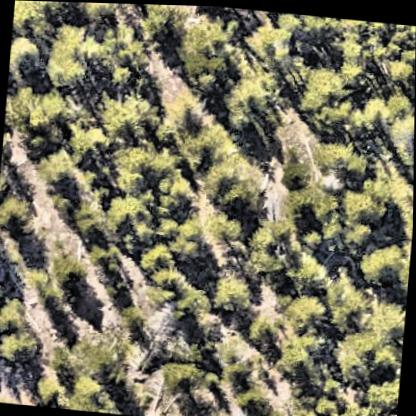tree-top: (41, 17, 101, 96), (176, 13, 239, 83), (93, 83, 160, 148), (66, 325, 137, 385), (296, 56, 358, 123), (208, 151, 267, 217), (336, 329, 400, 383), (171, 113, 229, 170), (315, 134, 377, 184), (97, 34, 153, 88), (223, 72, 279, 124), (208, 268, 257, 320), (357, 235, 406, 287), (8, 87, 64, 131), (281, 287, 331, 336), (0, 298, 40, 359), (43, 250, 92, 299), (67, 372, 123, 414), (136, 3, 188, 47), (109, 139, 153, 191), (245, 20, 297, 64), (341, 179, 387, 227), (247, 221, 290, 272), (34, 146, 79, 194), (0, 322, 43, 372), (364, 296, 408, 343), (153, 167, 195, 215), (273, 329, 319, 371), (8, 31, 47, 80), (13, 0, 64, 37), (313, 379, 363, 416), (105, 190, 148, 232), (67, 120, 107, 165), (379, 175, 414, 224), (215, 332, 260, 370), (0, 189, 37, 235), (328, 282, 369, 323), (171, 214, 211, 256), (161, 356, 205, 394), (349, 92, 390, 132), (175, 281, 213, 323), (364, 370, 401, 412), (388, 113, 415, 169), (73, 209, 115, 243), (203, 207, 241, 244), (303, 186, 339, 223), (139, 241, 175, 277), (280, 156, 315, 192), (293, 251, 329, 286), (245, 313, 279, 350), (75, 2, 123, 27), (298, 13, 340, 41), (380, 52, 415, 85), (344, 217, 377, 251), (120, 303, 152, 338), (35, 374, 68, 405), (235, 377, 270, 406), (272, 11, 302, 36), (333, 34, 359, 61), (268, 408, 331, 416), (208, 404, 240, 416), (366, 414, 398, 416)
